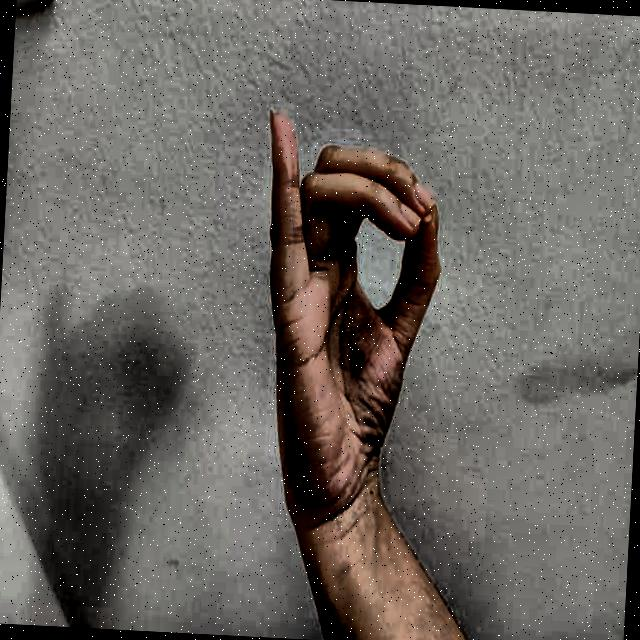Ou: (223, 68, 460, 531)
